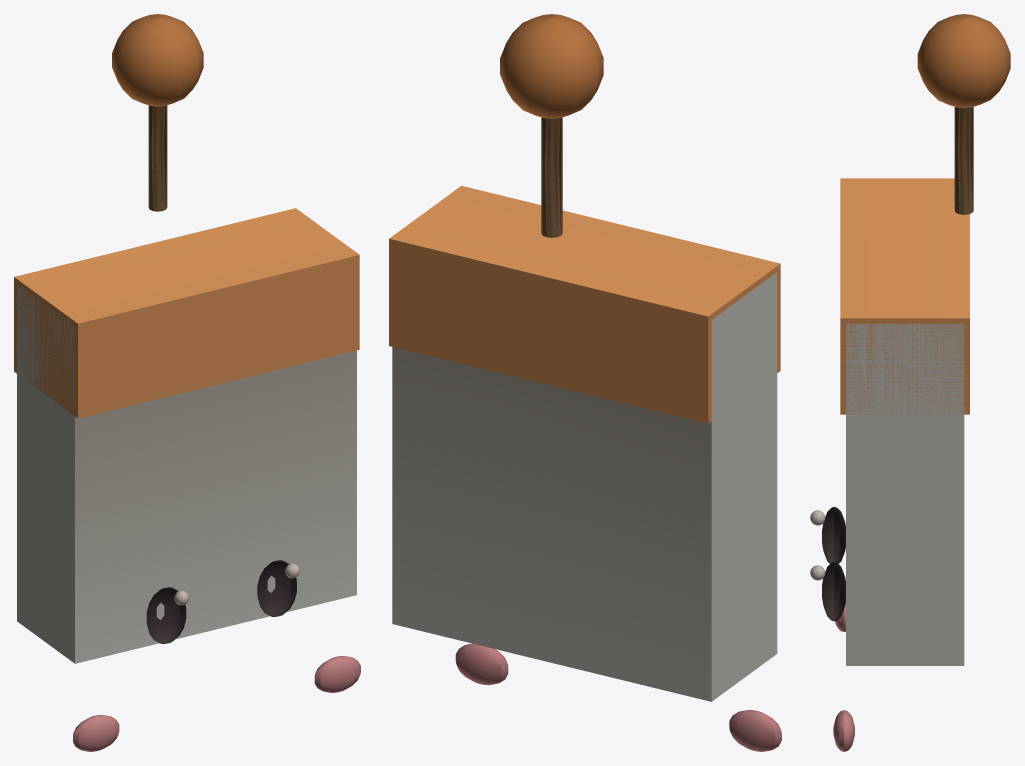
3 renders of one model, left to right at view 1: azimuth 30°, elevation 25°; view 2: azimuth 150°, elevation 25°; view 3: azimuth 270°, elevation 25°, orthographic. The views are drawn at different scales.
Visible parts, largest first — view 1: pet_pd3c2351a; view 2: pet_pd3c2351a; view 3: pet_pd3c2351a.
Part boxes in pixels (box(x1,y1,x2,y2)): pet_pd3c2351a: box(14, 14, 360, 751); pet_pd3c2351a: box(389, 14, 781, 751); pet_pd3c2351a: box(810, 14, 1010, 751).
Bounding box in the file's own units: 0.2861 × 0.6264 × 0.1698.
